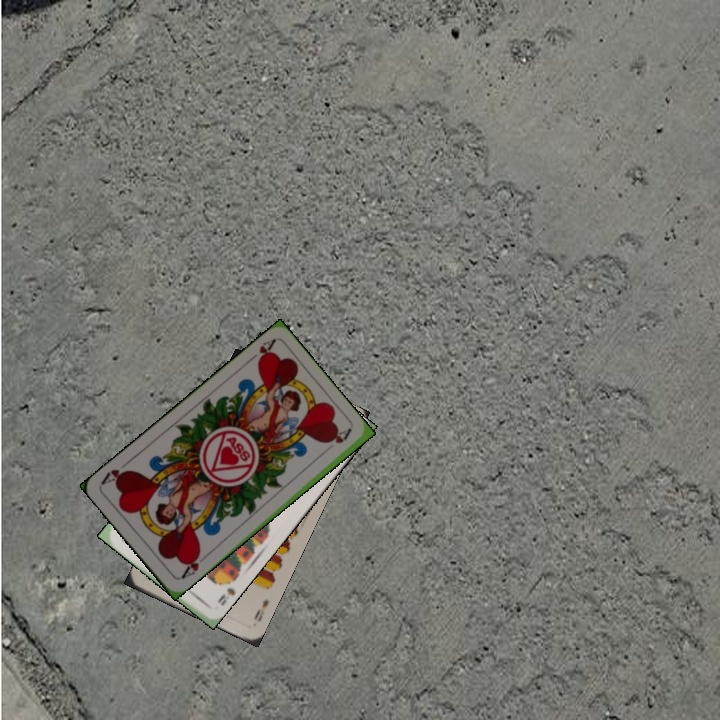E9: (250, 595, 272, 624)
HA: (242, 335, 277, 368), (177, 548, 210, 582)
S9: (213, 573, 239, 608)
